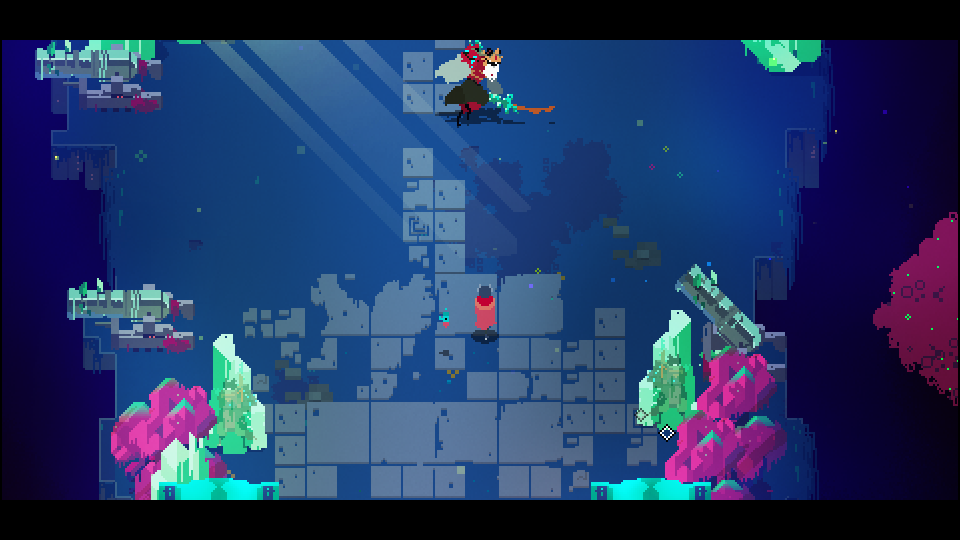hanged_man: (435, 39, 533, 127)
player: (469, 281, 499, 343)
